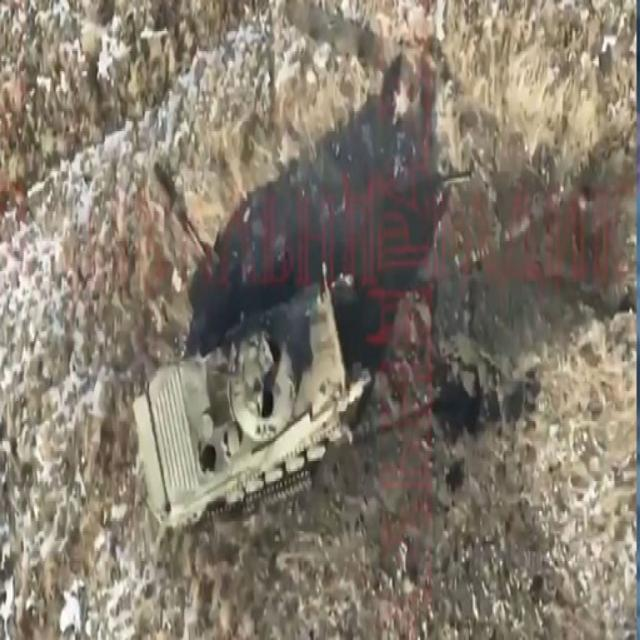APC-IFV: (128, 273, 352, 531)
